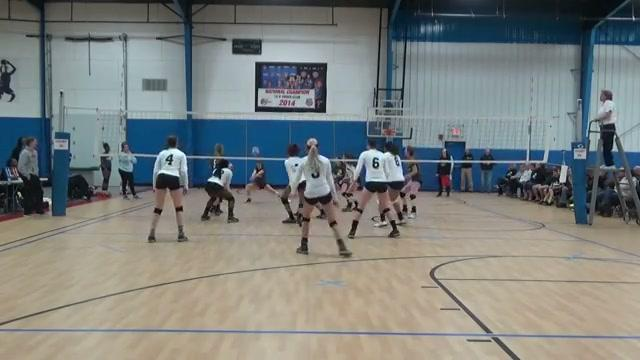ball: (249, 146, 265, 159)
